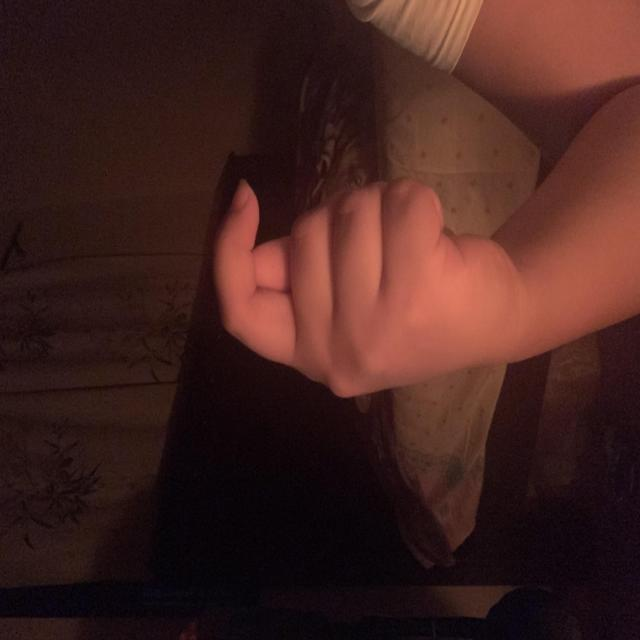T: (174, 210, 404, 518)
